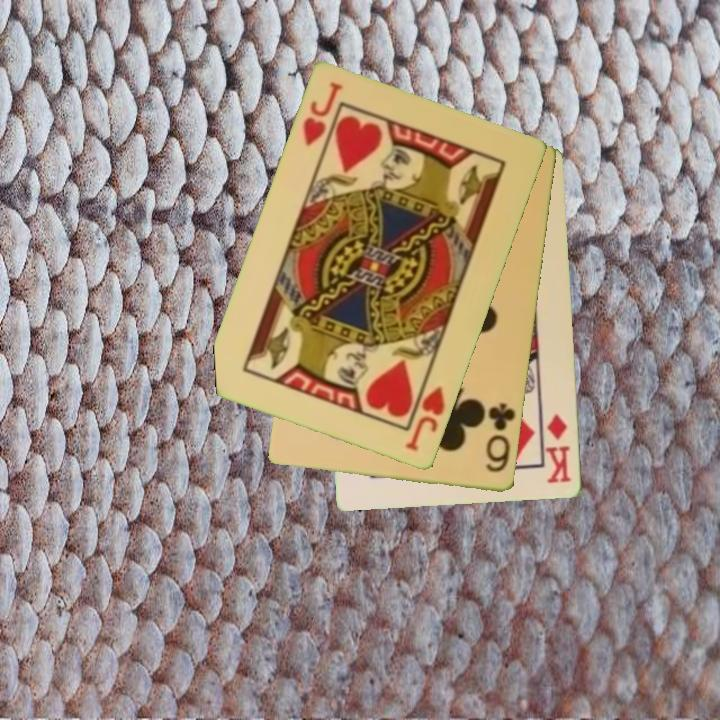6c: (482, 400, 519, 476)
Jh: (402, 372, 448, 455), (299, 78, 346, 150)
Kd: (542, 411, 575, 487)
